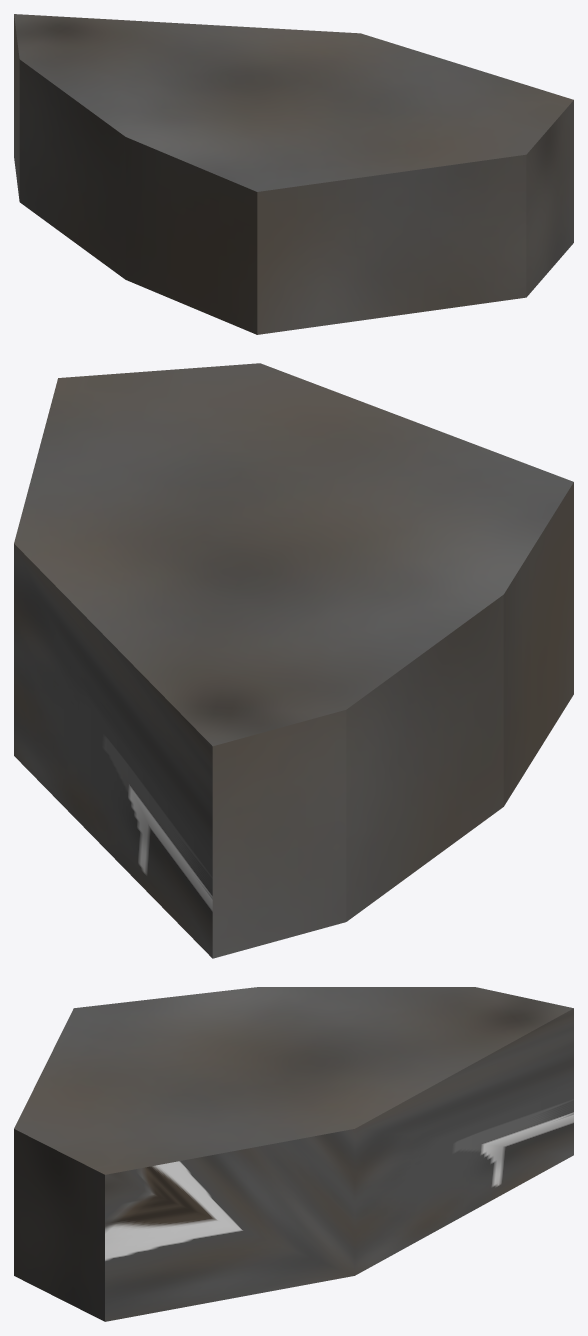
The model's file is ishi_01_2_1.fbx.
The picture shows the model from 3 angles, top to bottom: view 1: azimuth 30°, elevation 25°; view 2: azimuth 150°, elevation 25°; view 3: azimuth 270°, elevation 25°; orthographic projection. The views are drawn at different scales.
Visible parts, largest first — view 1: polySurface2; view 2: polySurface2; view 3: polySurface2.
Part boxes in pixels (x1,y1,x2,y2): polySurface2: (14, 14, 573, 334); polySurface2: (14, 363, 573, 958); polySurface2: (14, 987, 573, 1321).
Bounding box in the file's own units: 12.76 × 4.66 × 16.08.
1 material, 1 textured.
